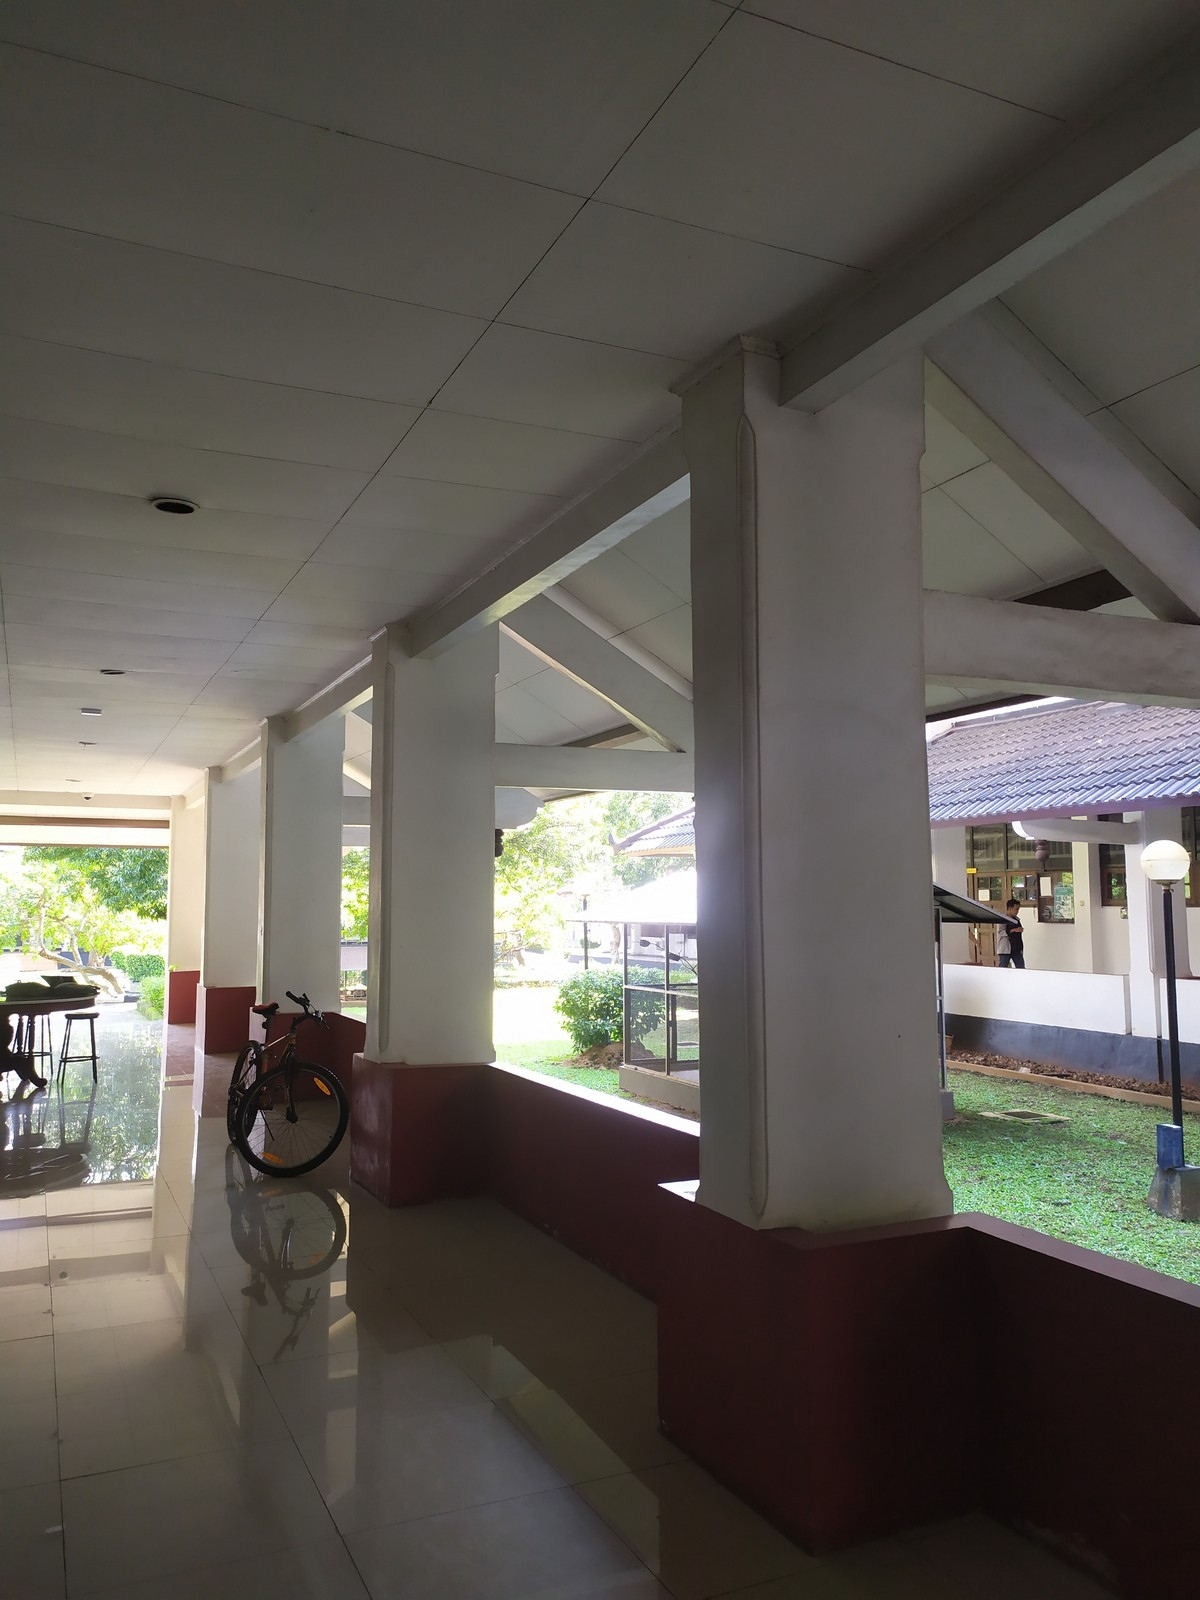concrete beam: (904, 580, 1200, 718), (479, 736, 686, 801)
concrete column: (668, 336, 976, 1246), (361, 619, 513, 1070), (251, 713, 353, 1010), (198, 757, 267, 989)
